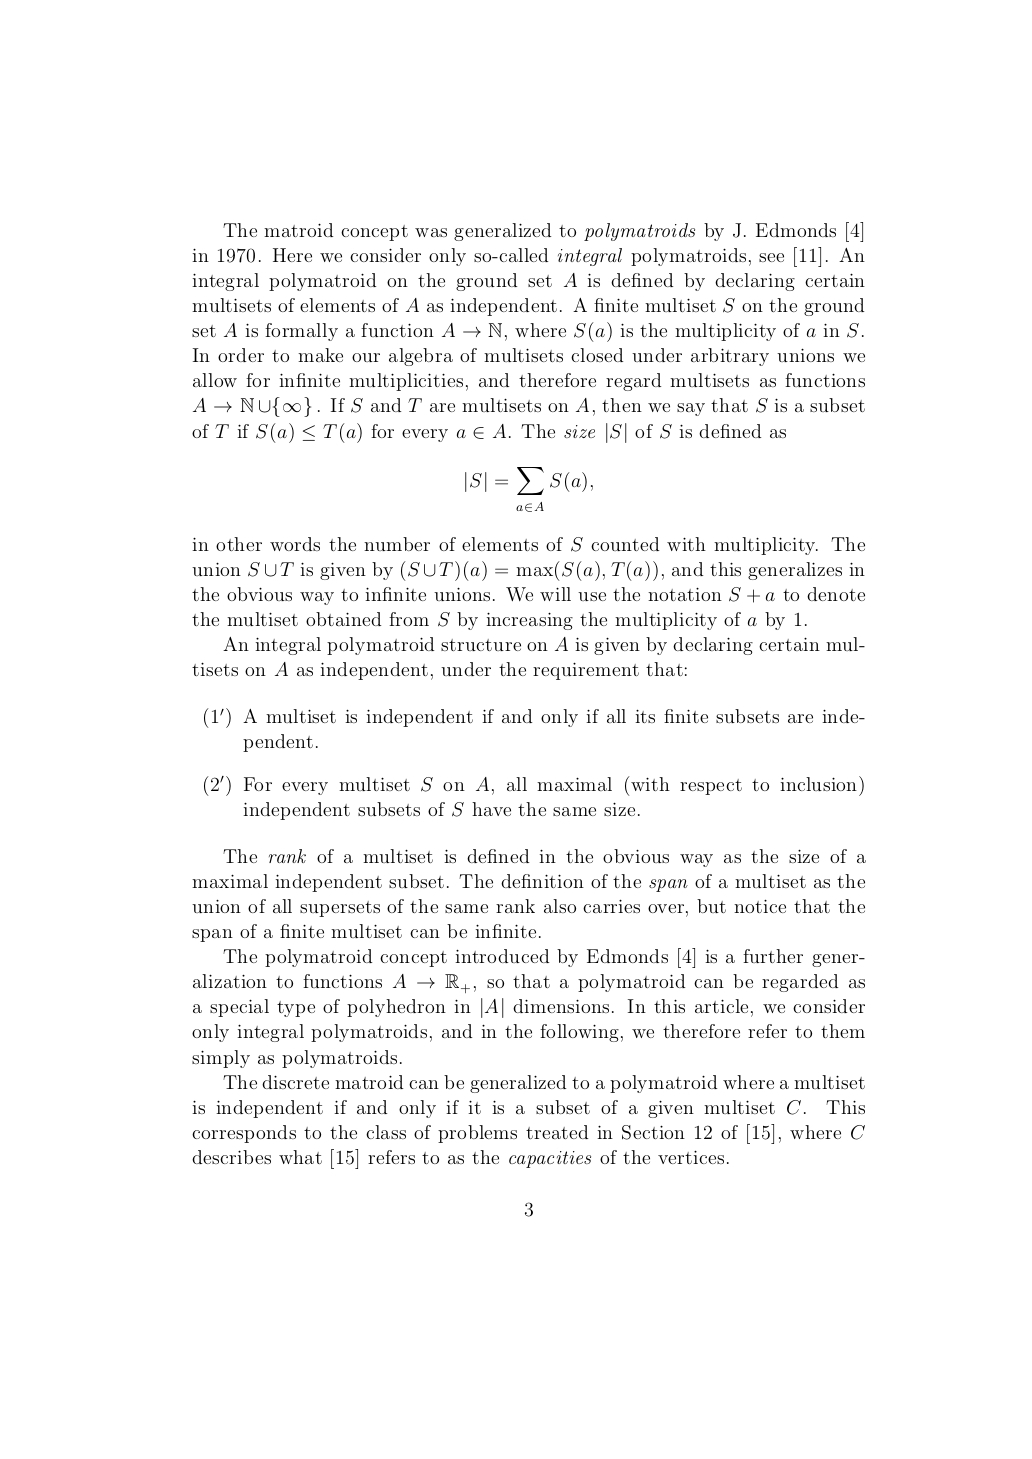formula: (465, 467, 592, 511)
